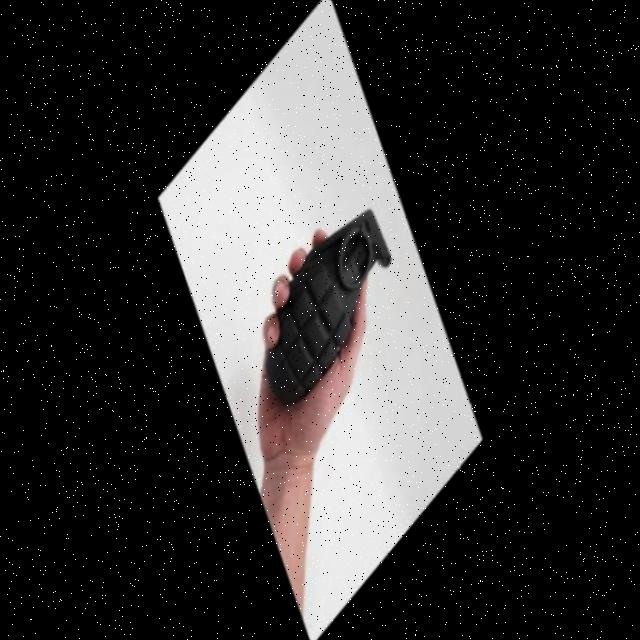grenade: (253, 191, 407, 416)
